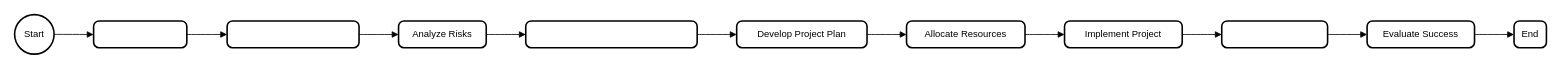
The diagram is 1560 pixels wide and 68 high, and some of its shapes have lost their labels. The box of each missing label's shape, as (x1, y1, x2, y2) in pixels:
Define Goals and Objectives: (525, 20, 698, 48)
Define Project: (92, 20, 187, 48)
Identify Stakeholders: (226, 20, 359, 48)
Monitor Progress: (1221, 20, 1328, 48)
